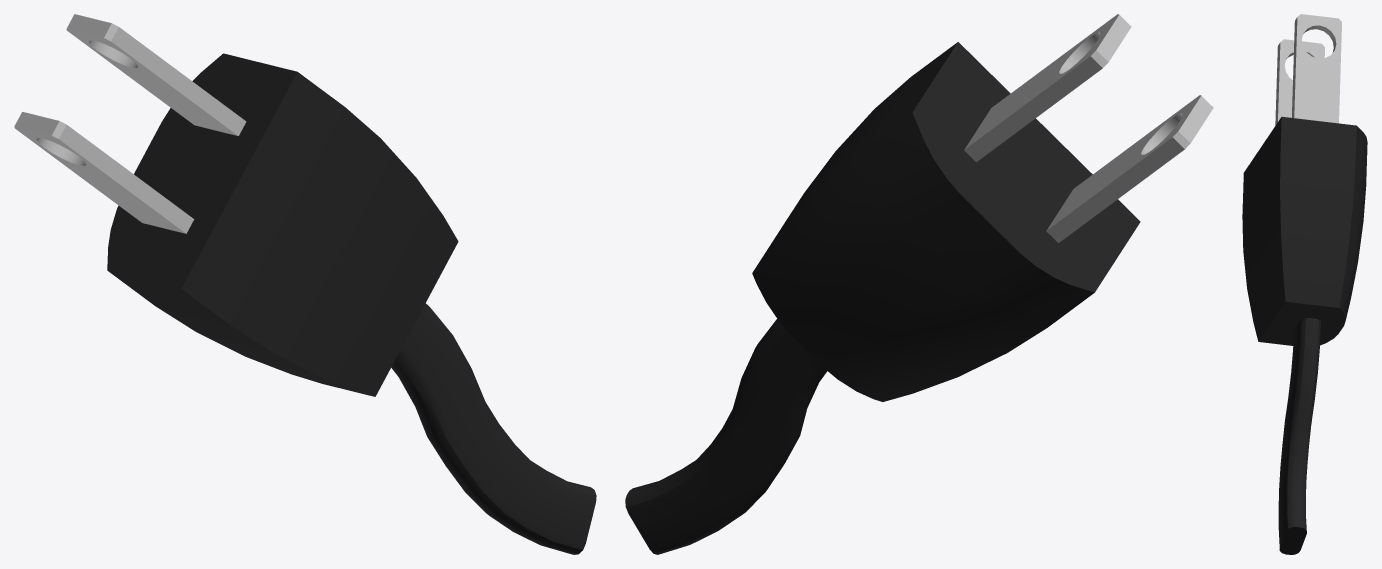
File: electric_plug.glb
The picture shows the model from 3 angles, left to right: view 1: azimuth 30°, elevation 25°; view 2: azimuth 150°, elevation 25°; view 3: azimuth 270°, elevation 25°; orthographic projection. The views are drawn at different scales.
Visible parts, largest first — view 1: Circle.2551; view 2: Circle.2551; view 3: Circle.2551.
Boxes of the visible parts, x1,y1,x2,y2 form: Circle.2551: [14, 14, 596, 554]; Circle.2551: [625, 14, 1213, 554]; Circle.2551: [1242, 14, 1367, 554].
Bounding box in the file's own units: 2 × 2.17 × 0.6123.
Materials: 1 (1 with a texture image).
